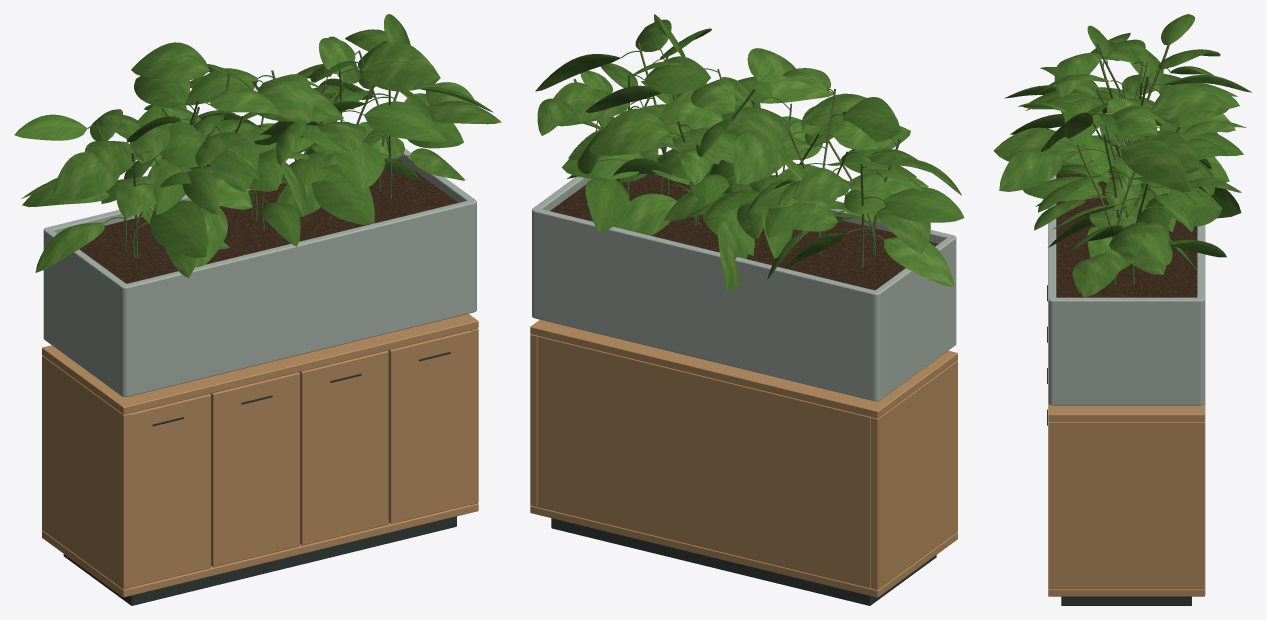
Rendered from botanicalDivider-14.glb.
The picture shows the model from 3 angles, left to right: view 1: azimuth 30°, elevation 25°; view 2: azimuth 150°, elevation 25°; view 3: azimuth 270°, elevation 25°; orthographic projection. The views are drawn at different scales.
Parts seen in each view (by area): view 1: StoragePlanter_Door (×4), Planter_pothos_leaves, Planter_oiled_oak, StoragePlanter_Side (×2), Planter_loose_soil, StoragePlanter_Top, Planter_matte_accent, StoragePlanter_Bottom, StoragePlanter_Plinth, Planter_pothos_stems; view 2: Planter_pothos_leaves, StoragePlanter_Back, Planter_oiled_oak, StoragePlanter_Side (×2), Planter_loose_soil, StoragePlanter_Top, Planter_matte_accent, StoragePlanter_Plinth, StoragePlanter_Bottom, Planter_pothos_stems; view 3: Planter_pothos_leaves, StoragePlanter_Side, Planter_oiled_oak, Planter_loose_soil, Planter_pothos_stems, StoragePlanter_Top, StoragePlanter_Plinth, StoragePlanter_Bottom.
Part boxes in pixels (x1,y1,x2,y2): StoragePlanter_Door (×4): (130,330,472,587); Planter_pothos_leaves: (14,14,501,278); Planter_oiled_oak: (43,148,476,397); StoragePlanter_Side (×2): (42,328,478,589); Planter_loose_soil: (79,159,458,283); StoragePlanter_Top: (42,314,478,414); Planter_matte_accent: (133,276,469,374); StoragePlanter_Bottom: (42,503,478,597); StoragePlanter_Plinth: (63,516,456,605); Planter_pothos_stems: (87,50,409,258); Planter_pothos_leaves: (535,14,964,291); StoragePlanter_Back: (537,336,871,588); Planter_oiled_oak: (532,174,956,401); StoragePlanter_Side (×2): (530,334,957,589); Planter_loose_soil: (550,174,938,290); StoragePlanter_Top: (530,320,957,418); Planter_matte_accent: (539,283,868,379); StoragePlanter_Plinth: (551,518,936,605); StoragePlanter_Bottom: (530,505,957,597); Planter_pothos_stems: (573,42,900,267); Planter_pothos_leaves: (993,14,1251,297); StoragePlanter_Side: (1048,421,1205,589); Planter_oiled_oak: (1048,135,1205,405); Planter_loose_soil: (1056,173,1196,297); Planter_pothos_stems: (1062,43,1185,284); StoragePlanter_Top: (1048,403,1205,421); StoragePlanter_Plinth: (1061,596,1191,605); StoragePlanter_Bottom: (1048,588,1205,596).
Size of the model in its own units: 1.46 by 1.58 by 0.7924.
Materials: 9 (2 with a texture image).
